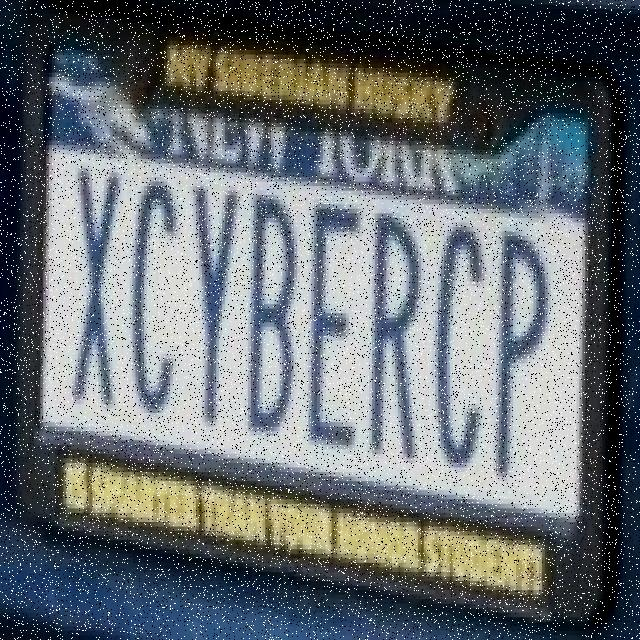licenseplate: (8, 0, 638, 640)
